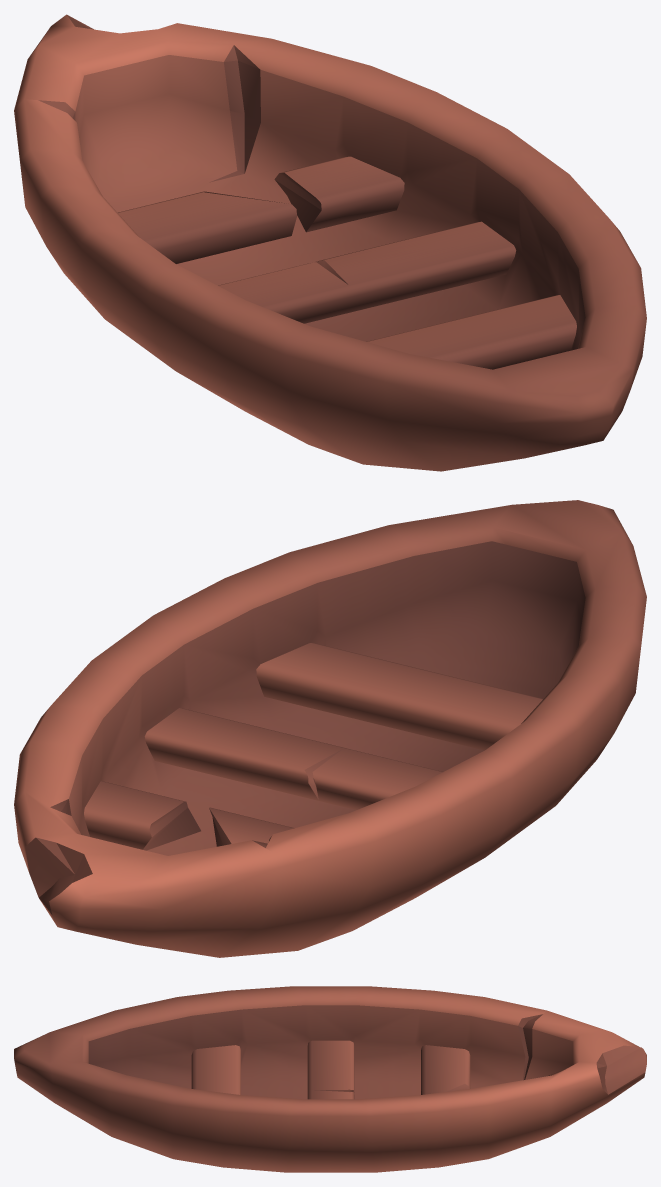
Rendered from Boat_01.fbx.
3 views of the same model, one above another, from view 1: azimuth 30°, elevation 25°; view 2: azimuth 150°, elevation 25°; view 3: azimuth 270°, elevation 25° (orthographic). The views are drawn at different scales.
Parts seen in each view (by area): view 1: Boat_01; view 2: Boat_01; view 3: Boat_01.
Part boxes in pixels (left/top/right/bottom): Boat_01: left=14, top=14, right=646, bottom=471; Boat_01: left=14, top=500, right=646, bottom=957; Boat_01: left=14, top=986, right=646, bottom=1172.
Bounding box in the file's own units: 160 × 54.43 × 343.
